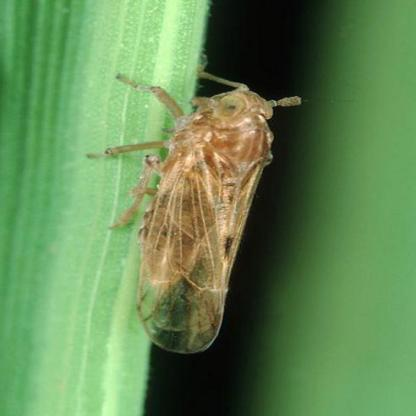brown-planthopper: (142, 83, 272, 354)
